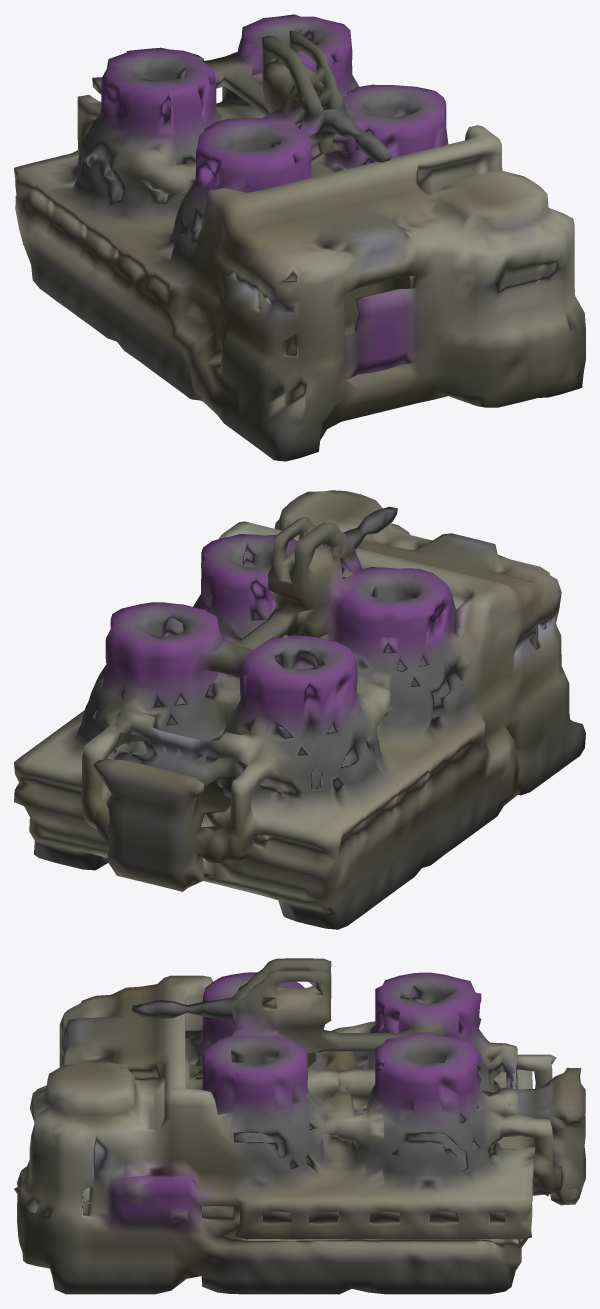
Rendered from yuri_slave_miner.glb.
3 renders of one model, top to bottom at view 1: azimuth 30°, elevation 25°; view 2: azimuth 150°, elevation 25°; view 3: azimuth 270°, elevation 25°, orthographic. The views are drawn at different scales.
Parts seen in each view (by area): view 1: yuri_slave_miner; view 2: yuri_slave_miner; view 3: yuri_slave_miner.
Boxes of the visible parts, <box> form: yuri_slave_miner: <box>14,14,585,461</box>; yuri_slave_miner: <box>14,490,585,929</box>; yuri_slave_miner: <box>14,958,585,1294</box>.
Size of the model in its own units: 3.72 by 3.19 by 6.3.
